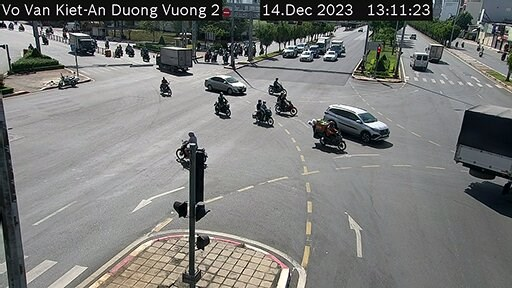car: (323, 97, 389, 149), (202, 68, 244, 99), (278, 43, 301, 62), (411, 51, 431, 71), (298, 50, 313, 62), (326, 48, 334, 63)
motorbike: (314, 118, 347, 156), (251, 99, 273, 130), (156, 75, 176, 108), (275, 92, 299, 119), (212, 95, 231, 121), (269, 77, 281, 97)
truck: (462, 92, 510, 196), (151, 44, 191, 77), (67, 31, 94, 58), (429, 39, 441, 62)
